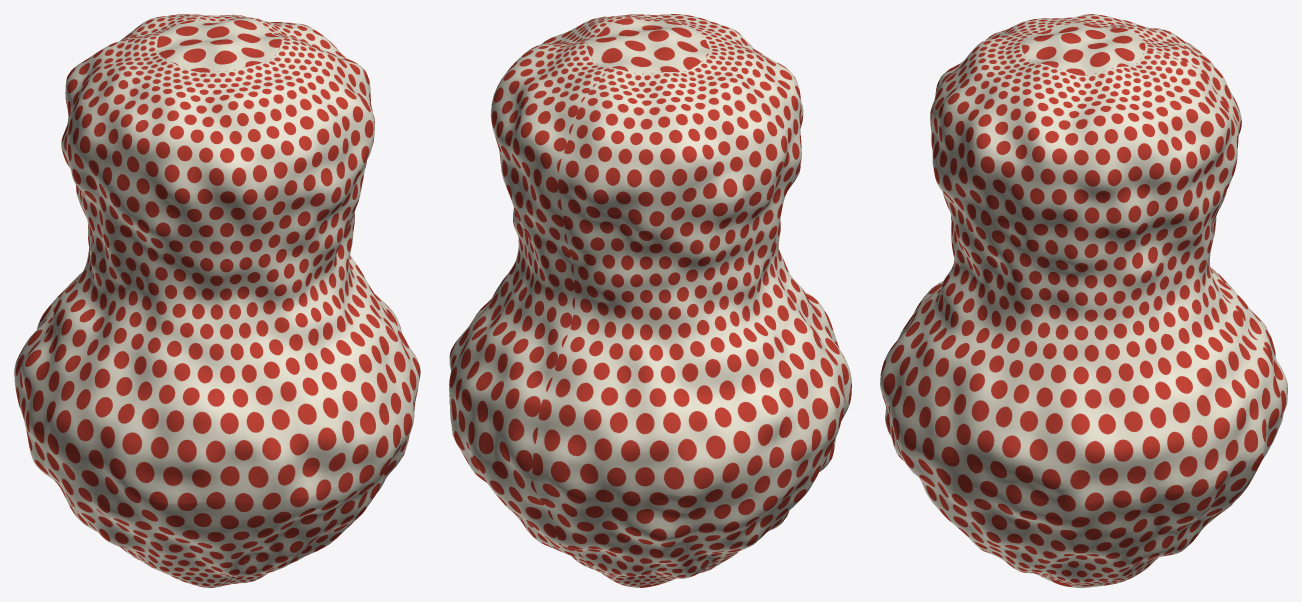
Rendered from mat_unwrap_build.glb.
3 views of the same model, side by side, from view 1: azimuth 30°, elevation 25°; view 2: azimuth 150°, elevation 25°; view 3: azimuth 270°, elevation 25° (orthographic).
Parts seen in each view (by area): view 1: gourd; view 2: gourd; view 3: gourd.
Boxes of the visible parts, x1=… form: gourd: x1=14, y1=14, x2=420, y2=587; gourd: x1=449, y1=14, x2=851, y2=587; gourd: x1=880, y1=14, x2=1287, y2=587.
Size of the model in its own units: 0.1115 by 0.1618 by 0.1121.
1 material, 1 textured.
